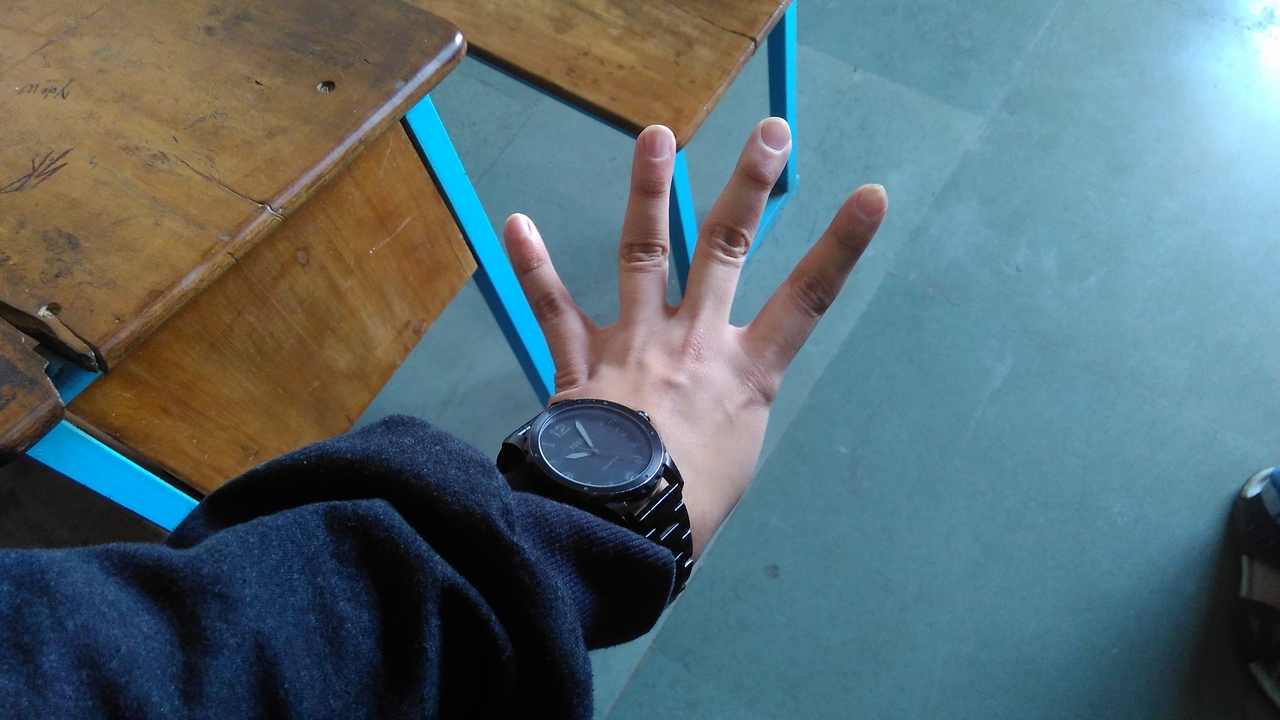fingertip: (734, 104, 800, 162), (838, 170, 900, 228), (624, 118, 684, 168), (494, 202, 548, 256)
